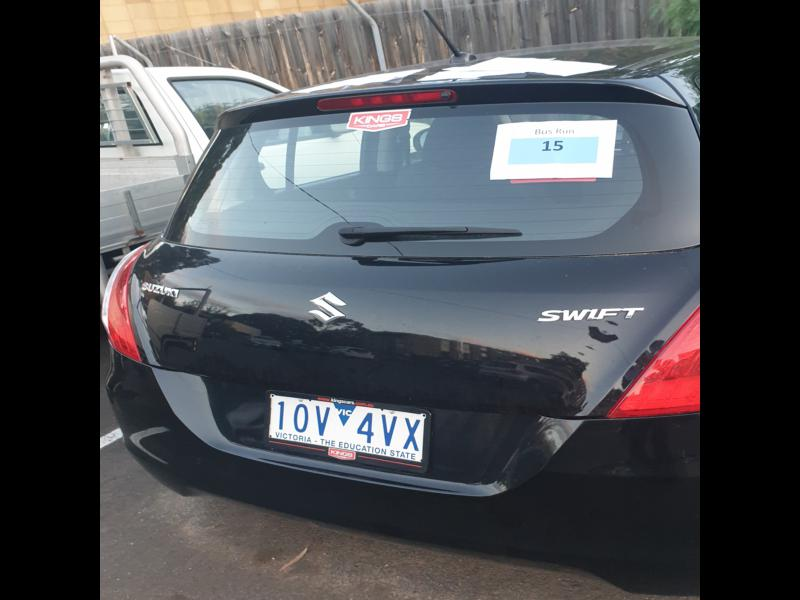BusRun: (510, 135, 601, 166)
PlateNo: (266, 391, 425, 463)
